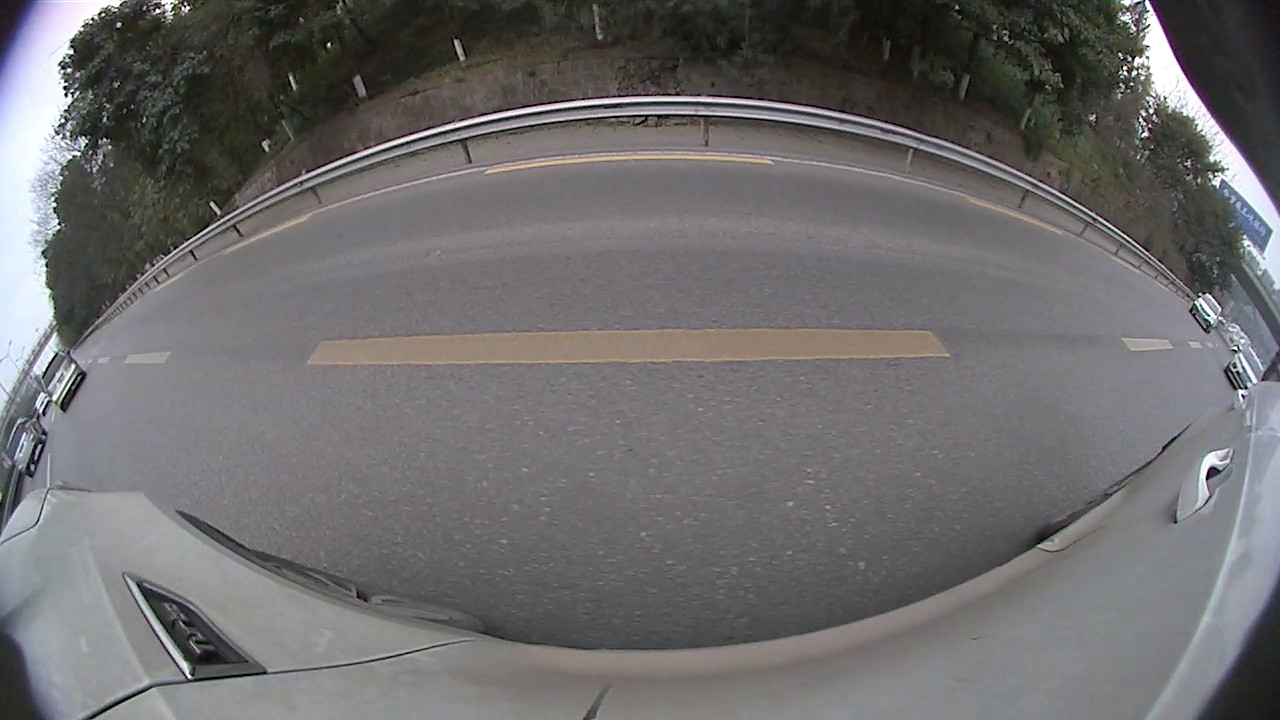bus: (802, 103, 1097, 264), (1096, 177, 1279, 361)
car: (346, 146, 530, 250), (603, 122, 753, 232), (1198, 325, 1279, 440), (741, 138, 802, 201), (543, 150, 596, 194)
front: (1161, 290, 1205, 353), (819, 174, 829, 197), (521, 186, 530, 211)
rear: (908, 190, 935, 229), (464, 193, 482, 238)
